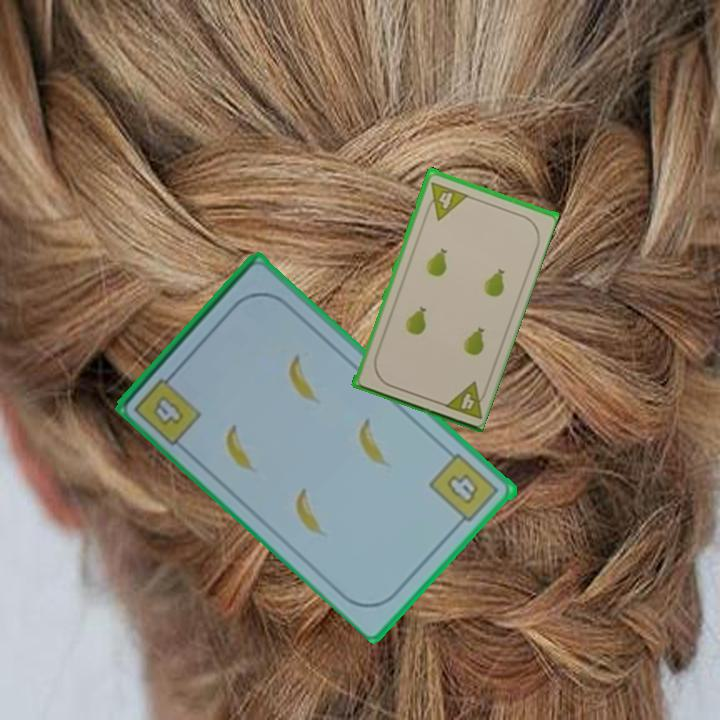4b: (426, 449, 503, 530), (130, 365, 205, 448)
4p: (439, 377, 491, 422), (421, 178, 470, 222)
